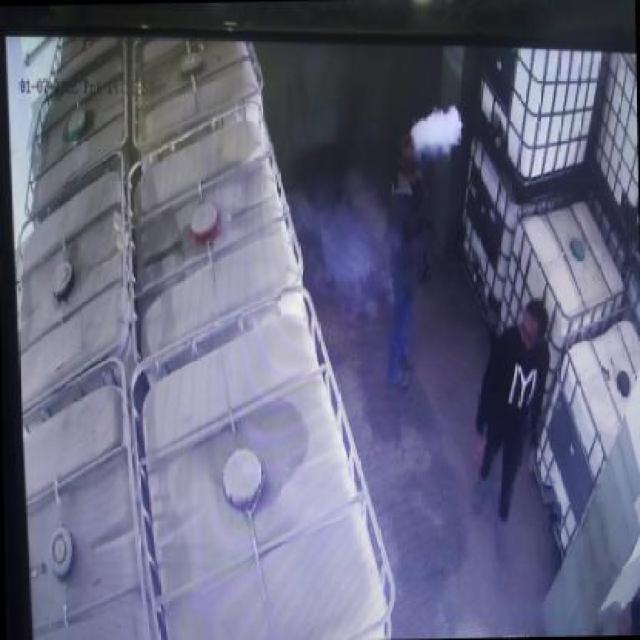fire: (410, 101, 464, 160)
